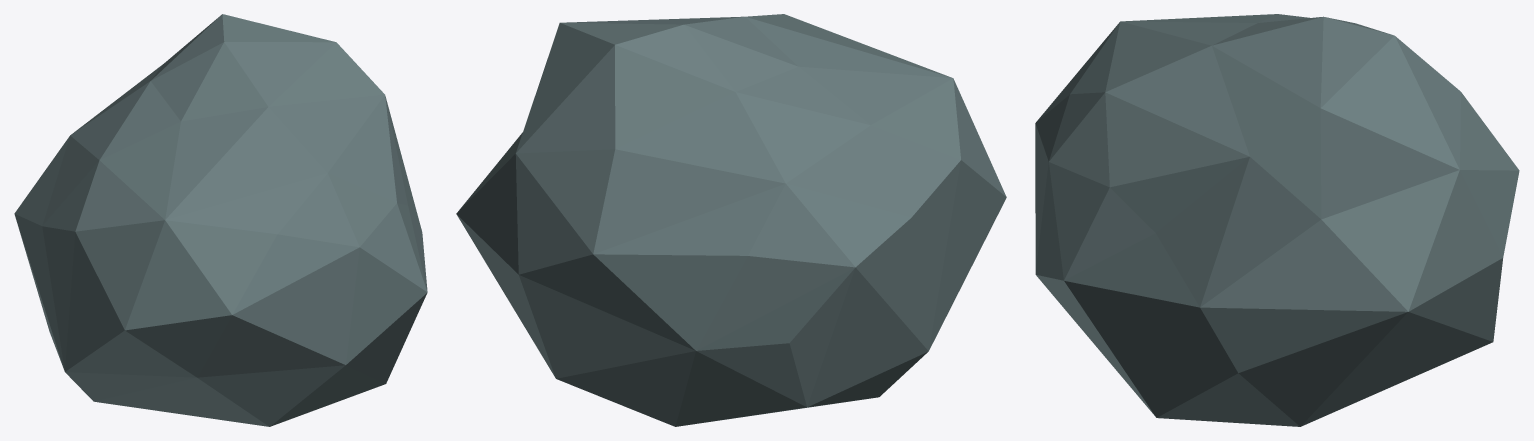
The model's file is Stone_2.glb.
3 views of the same model, side by side, from view 1: azimuth 30°, elevation 25°; view 2: azimuth 150°, elevation 25°; view 3: azimuth 270°, elevation 25° (orthographic). The views are drawn at different scales.
Visible parts, largest first — view 1: Stone.002; view 2: Stone.002; view 3: Stone.002.
Part boxes in pixels (<box>): Stone.002: <box>14,14,427,426</box>; Stone.002: <box>456,14,1006,426</box>; Stone.002: <box>1035,14,1519,426</box>.
Size of the model in its own units: 1.82 by 1.53 by 1.86.
